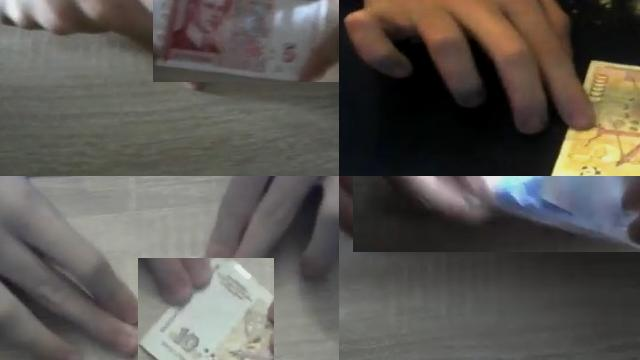10leva: (138, 258, 274, 360)
20leva: (400, 176, 640, 251)
5leva: (158, 0, 339, 82)
